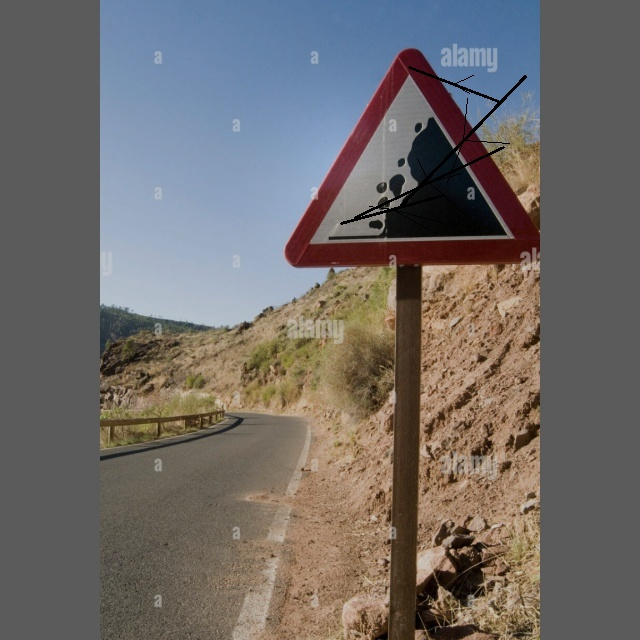Falling_Rocks: (315, 54, 527, 254)
